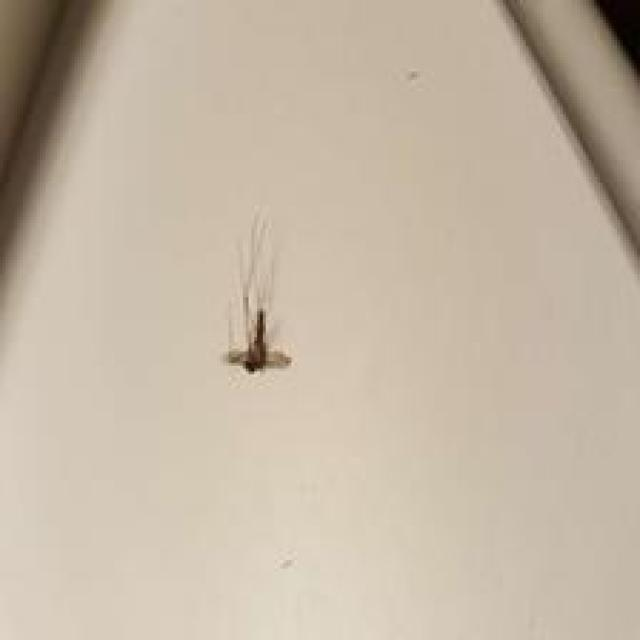Culex: (224, 207, 293, 376)
